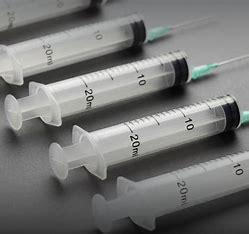Syringe: (2, 42, 233, 130), (84, 141, 244, 234)
